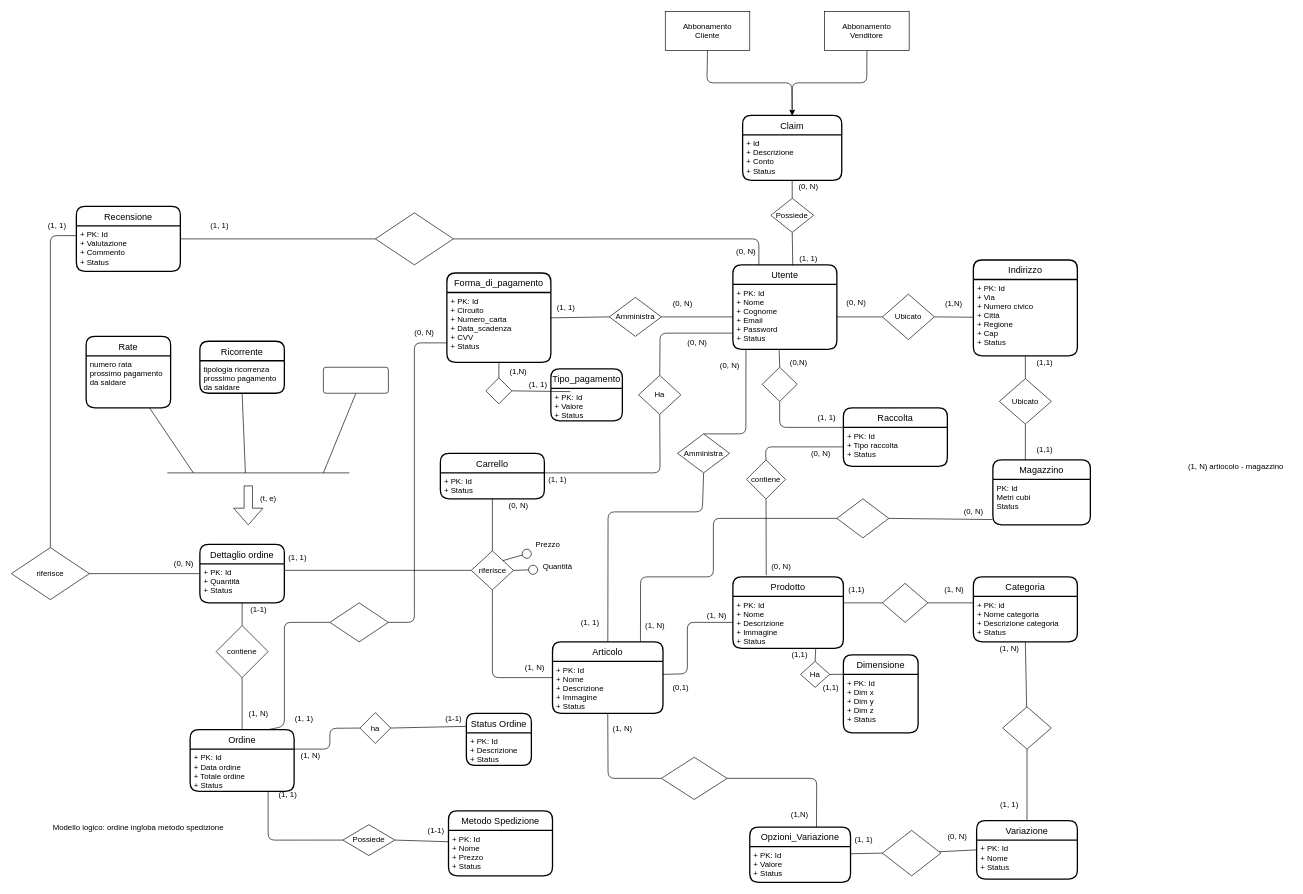
Image size: 1303x894. Some labels were removed from this diagram. Here are the shapes that lost their labels. From the top down, the centre of each, then its label:
At pixel 414 238: "Scrive".
At pixel 355 380: "Una volta".
At pixel 498 390: "di".
At pixel 779 384: "può avere".
At pixel 862 518: "Risiede".
At pixel 358 622: "pagato con".
At pixel 905 602: "appartiene".
At pixel 1026 727: "appertiene".
At pixel 694 778: "Si configura".
At pixel 911 853: "configurazione".
